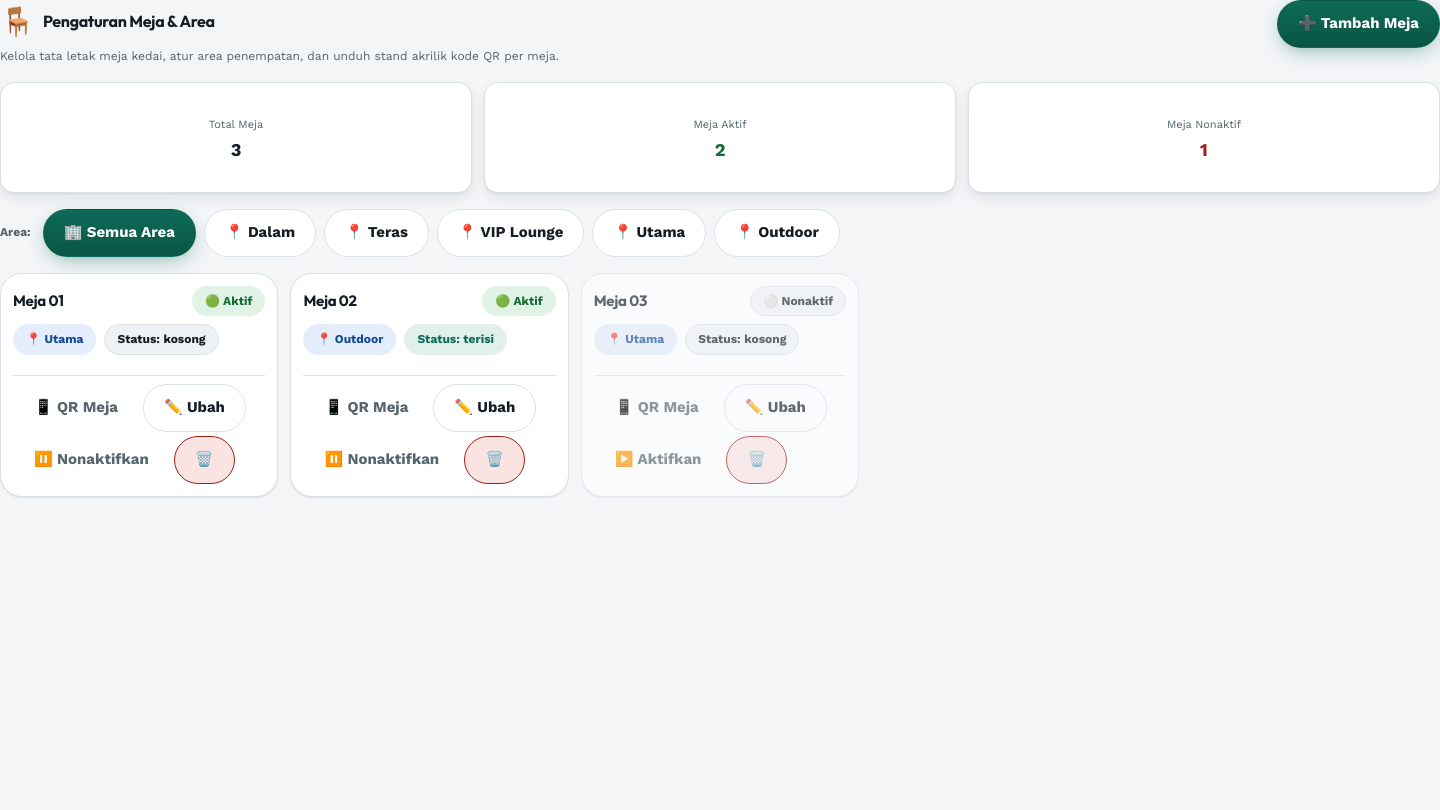
Test: Layar Pengaturan Meja & Area (T9-04) › 6. Mengubah meja (edit nama & area)
# Klik tombol ubah pada meja 1
Step 1. Click the button with aria-label "Ubah meja Meja 01" → coordinates (194, 408), box [143, 384, 246, 432]
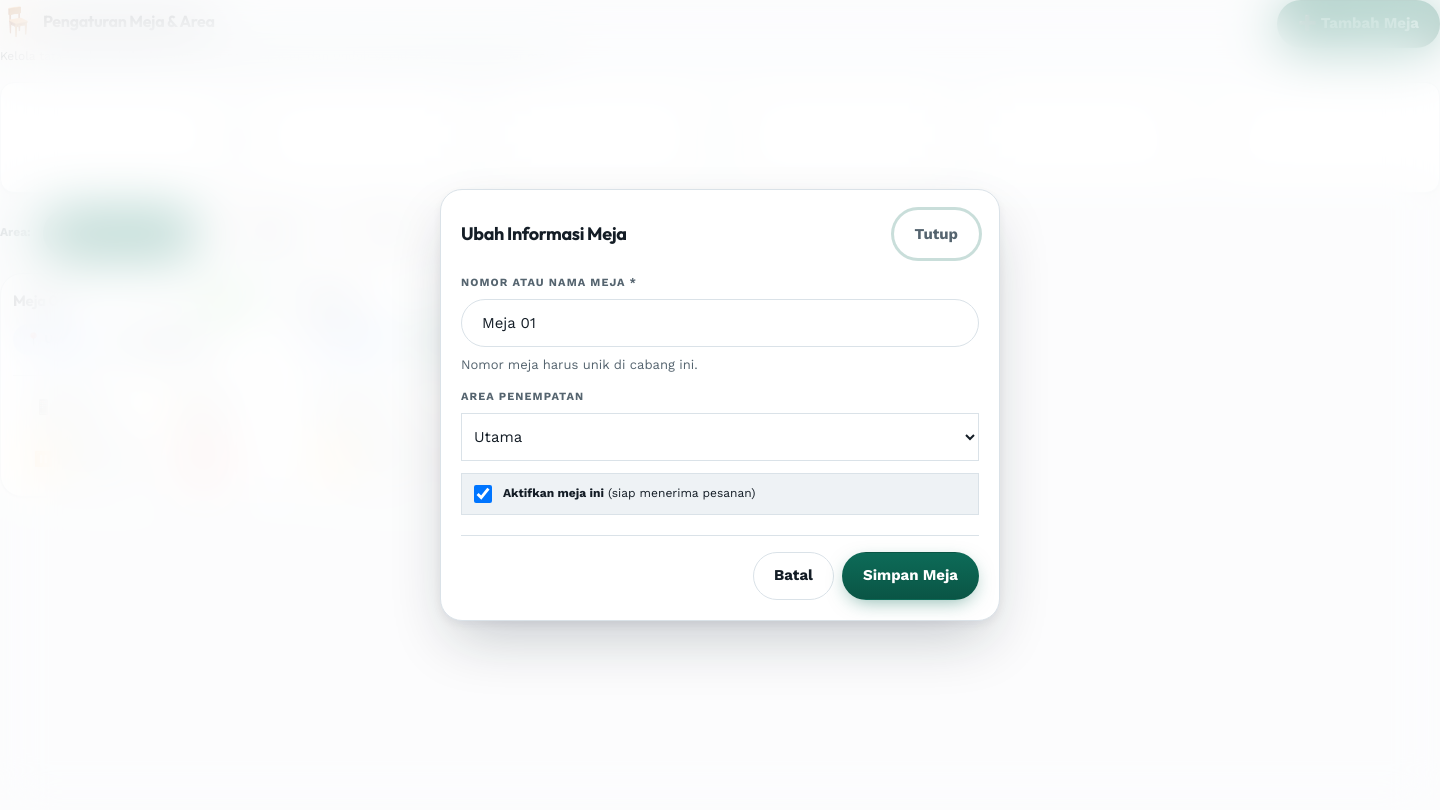
Now the heading "Ubah Informasi Meja" is shown, box [461, 224, 627, 245]
Step 2. Replace the text in the field labelled "Nomor atau Nama Meja *" with "Meja 01-Renov" → coordinates (720, 323), box [461, 299, 979, 347]
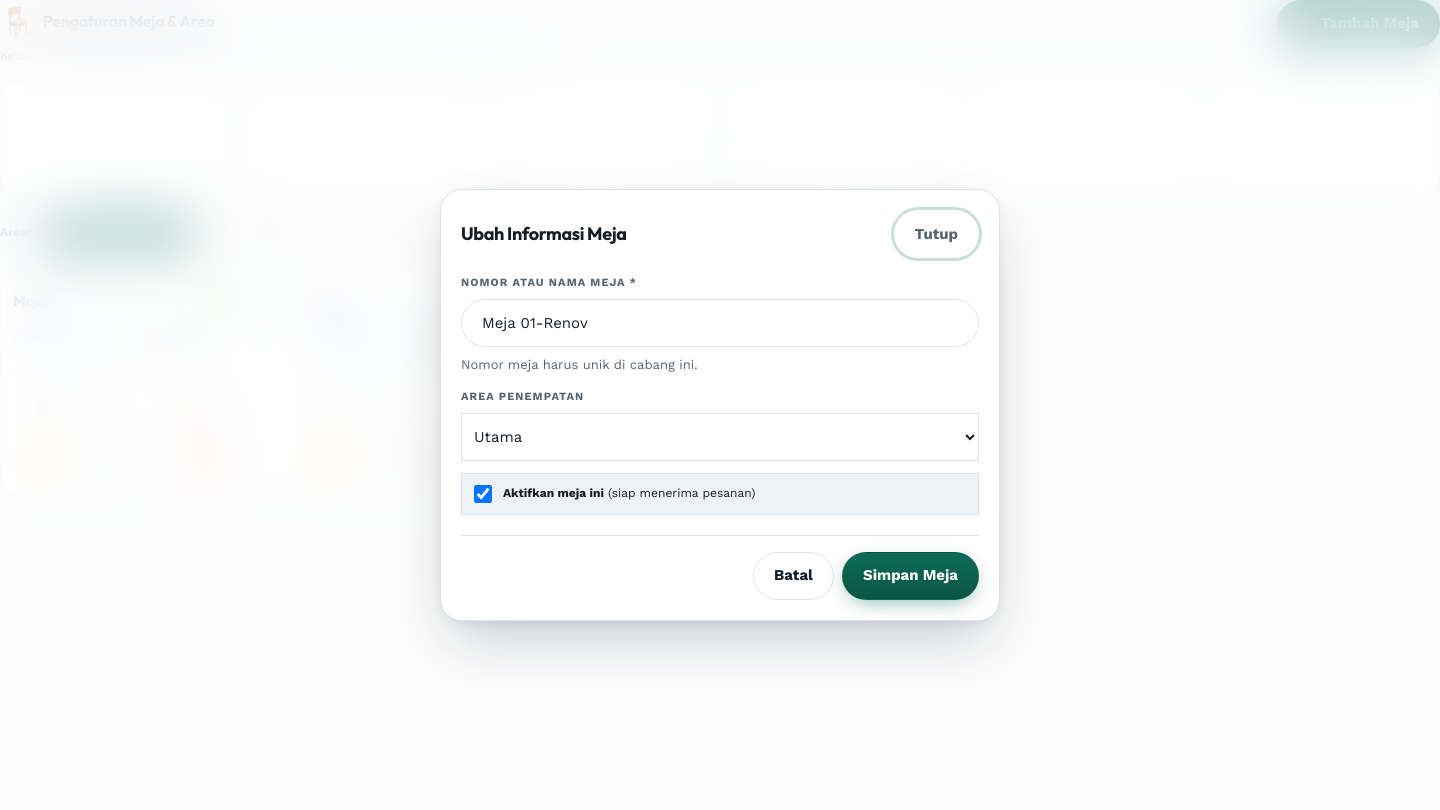
Step 3. Click the button with aria-label "Simpan data meja" → coordinates (910, 576), box [842, 552, 979, 600]
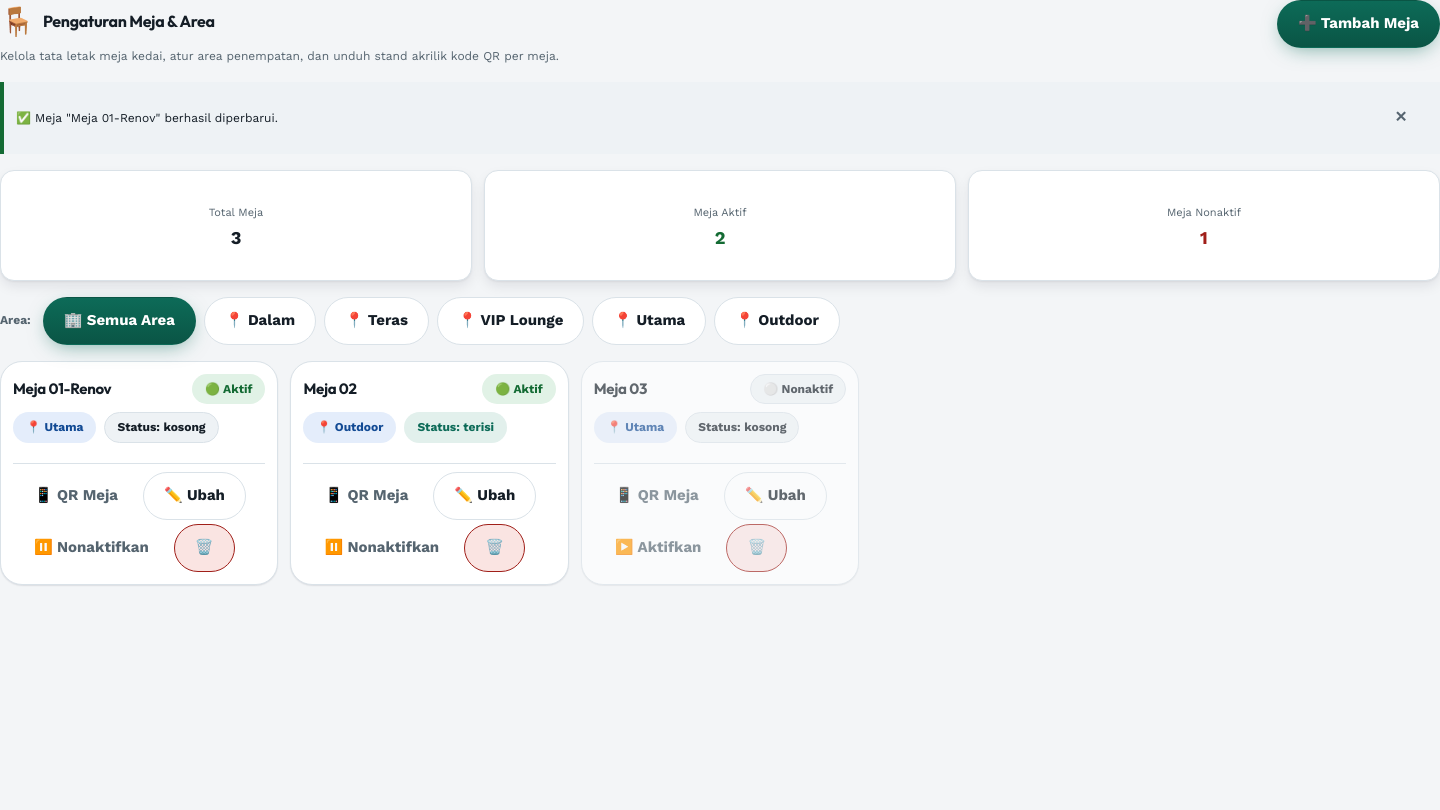
Now the text "✅ Meja \"Meja 01-Renov\" berhasil diperbarui." is shown, box [16, 109, 278, 127]
